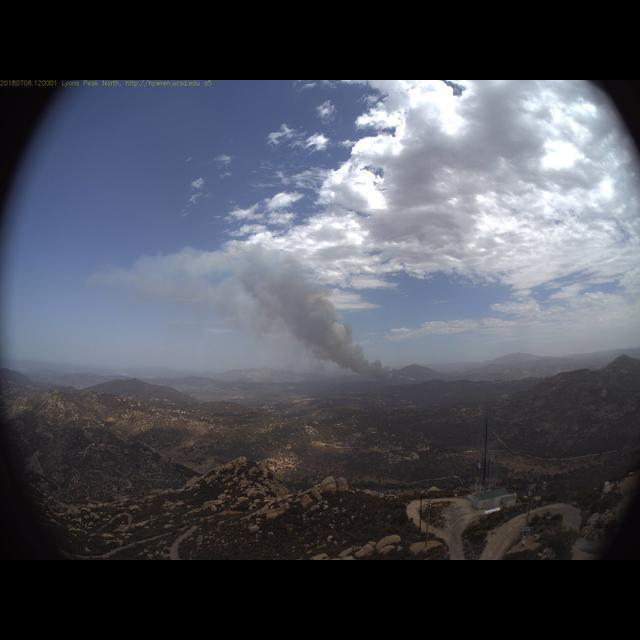Smoke: (100, 236, 412, 385)
